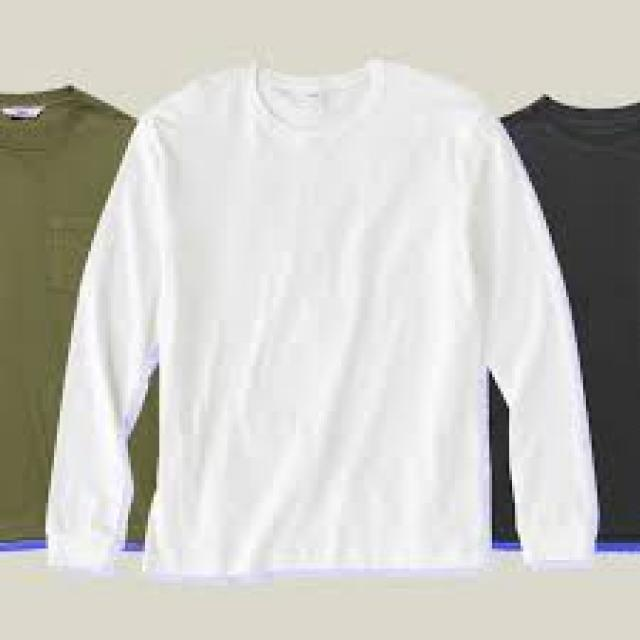plain: (48, 59, 610, 577)
